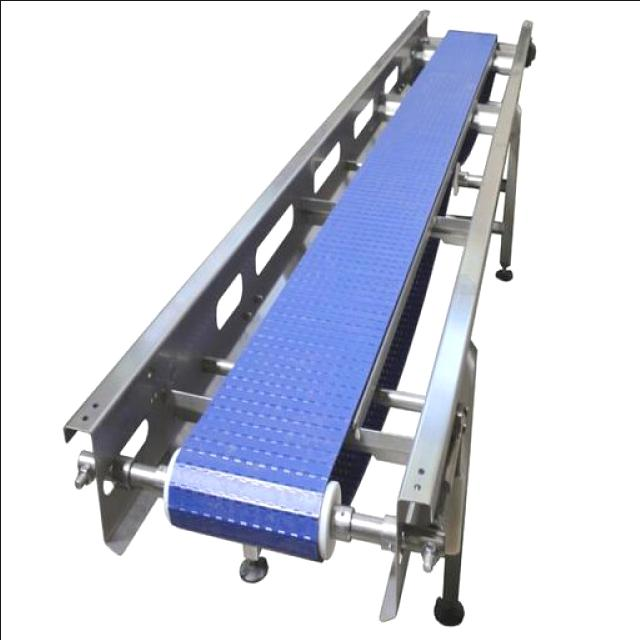conveyor: (168, 25, 498, 560)
